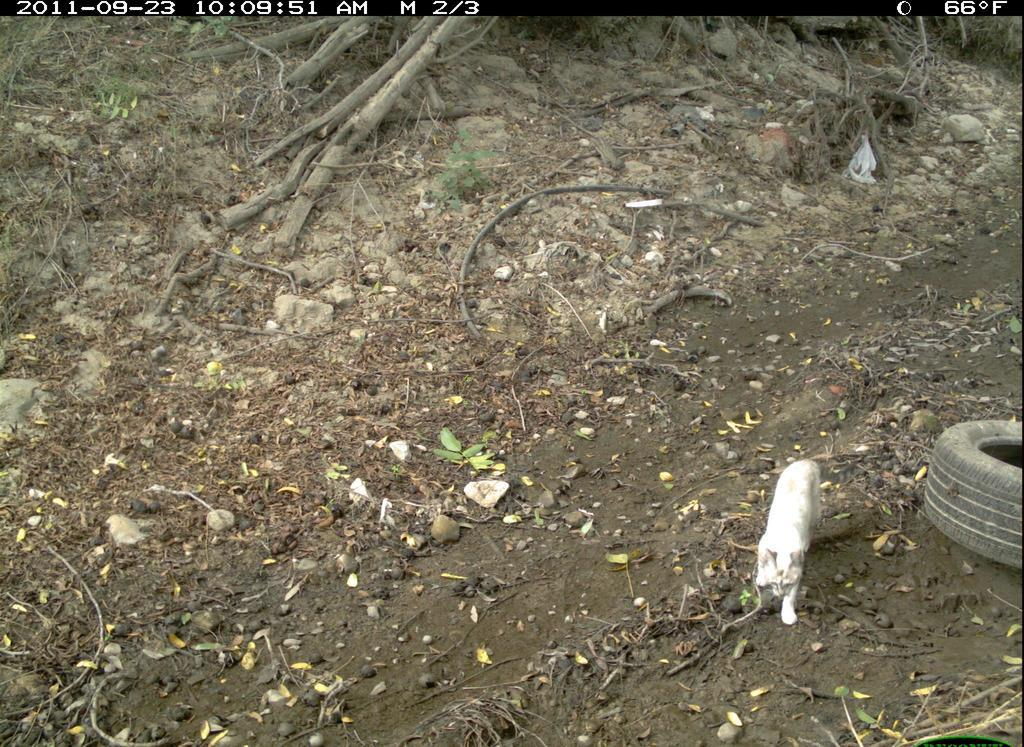cat: (748, 449, 829, 632)
